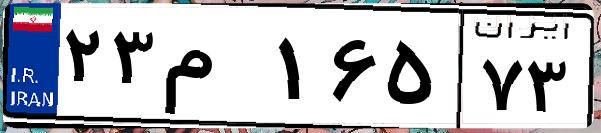1: (270, 28, 330, 110)
2: (57, 26, 110, 100)
3: (525, 38, 570, 115), (110, 28, 158, 98)
5: (385, 28, 445, 110)
6: (330, 28, 385, 110)
7: (475, 38, 525, 113)
م: (158, 20, 270, 120)
